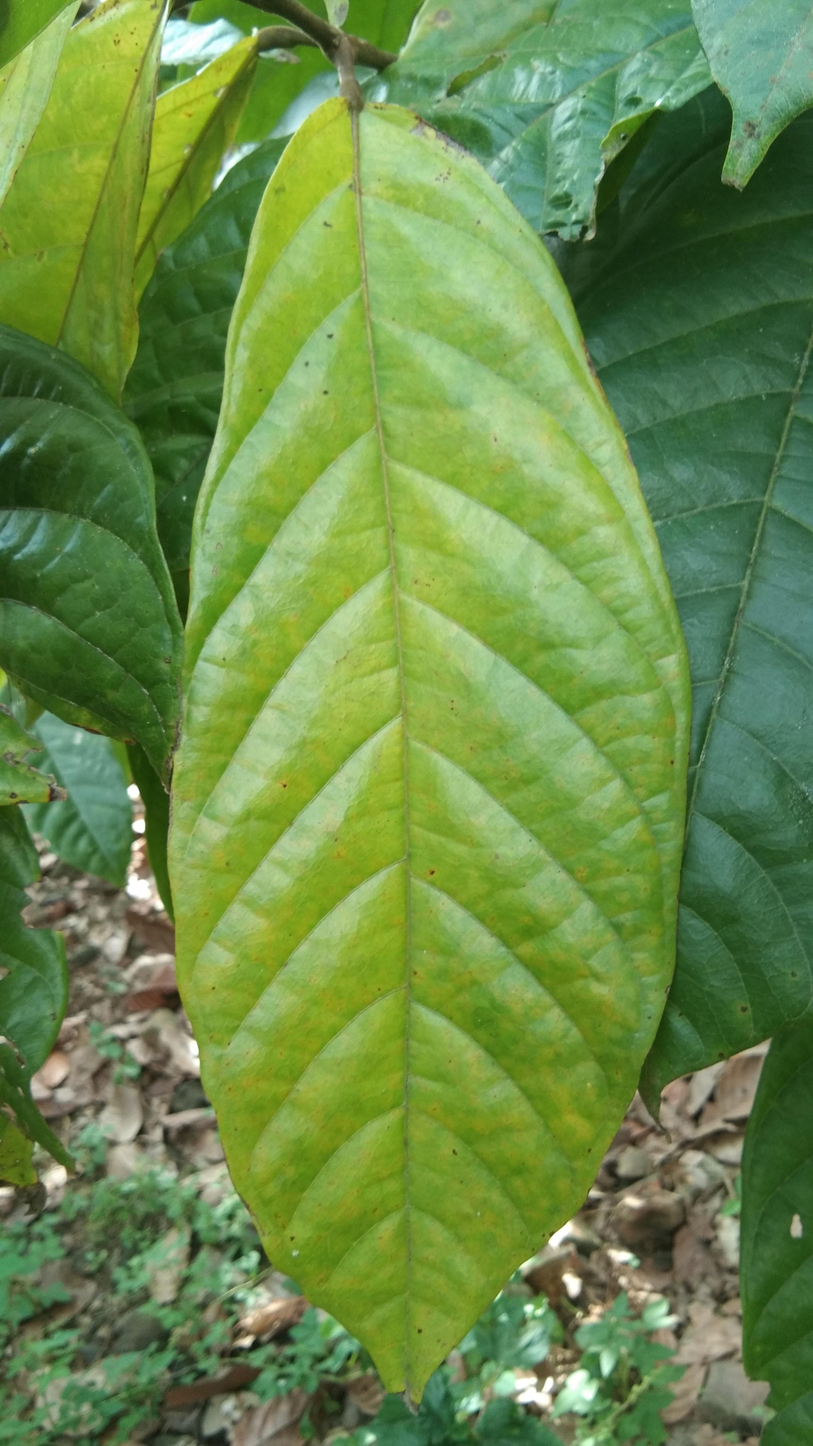deficiencia_potasio: (167, 80, 695, 1397)
